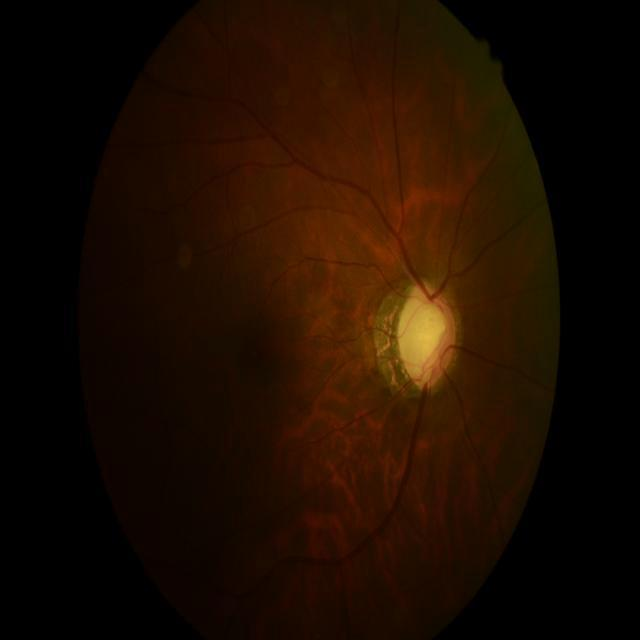cup: (406, 296, 448, 380)
disk: (396, 281, 456, 388)
